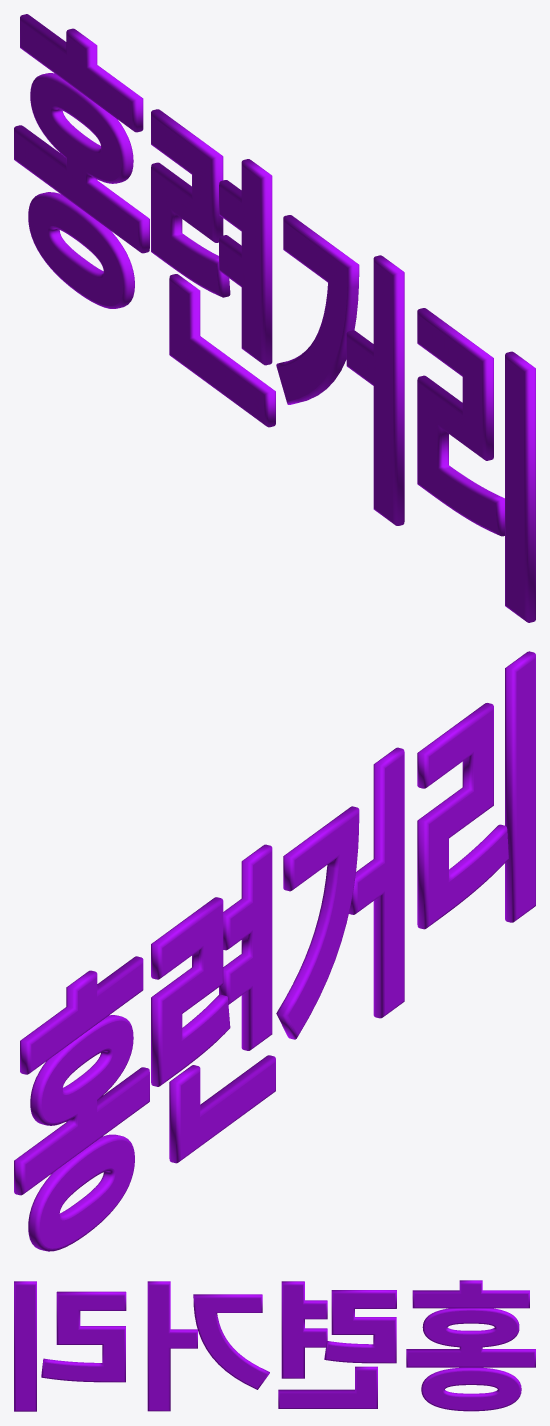
The model's file is Authored__Neon_Dragon.obj.
3 renders of one model, top to bottom at view 1: azimuth 30°, elevation 25°; view 2: azimuth 150°, elevation 25°; view 3: azimuth 270°, elevation 25°, orthographic. The views are drawn at different scales.
Visible parts, largest first — view 1: Neon_Dragon; view 2: Neon_Dragon; view 3: Neon_Dragon.
Boxes of the visible parts, box(x1,y1,x2,y2) form: Neon_Dragon: box(14, 14, 535, 622); Neon_Dragon: box(14, 651, 535, 1251); Neon_Dragon: box(14, 1280, 535, 1411).
Size of the model in its own units: 0.0447 by 0.9875 by 3.6.
